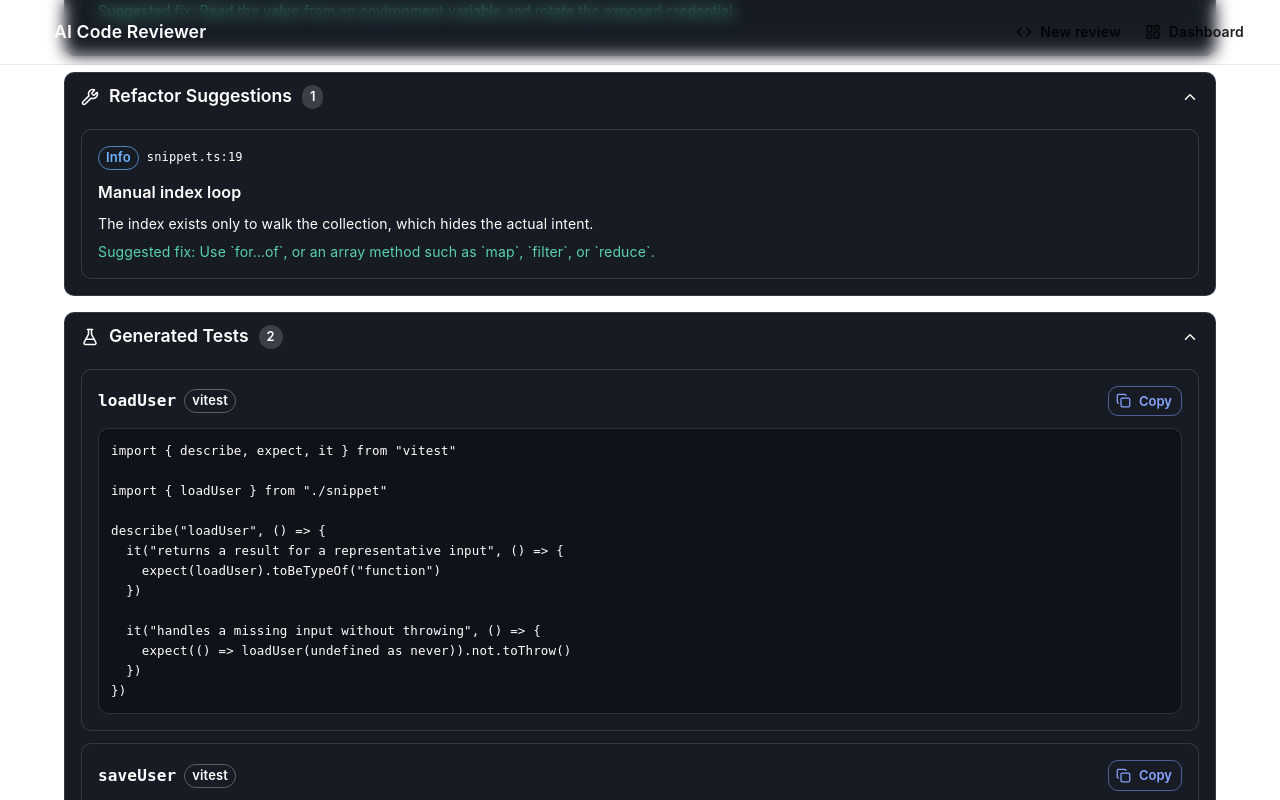
Test: review result view › shows a generated test per reviewed function and copies it (AC5)
(page scrolled)
Click the button with aria-label "Copy the loadUser test": (1145, 401) [1108,386,1182,416]
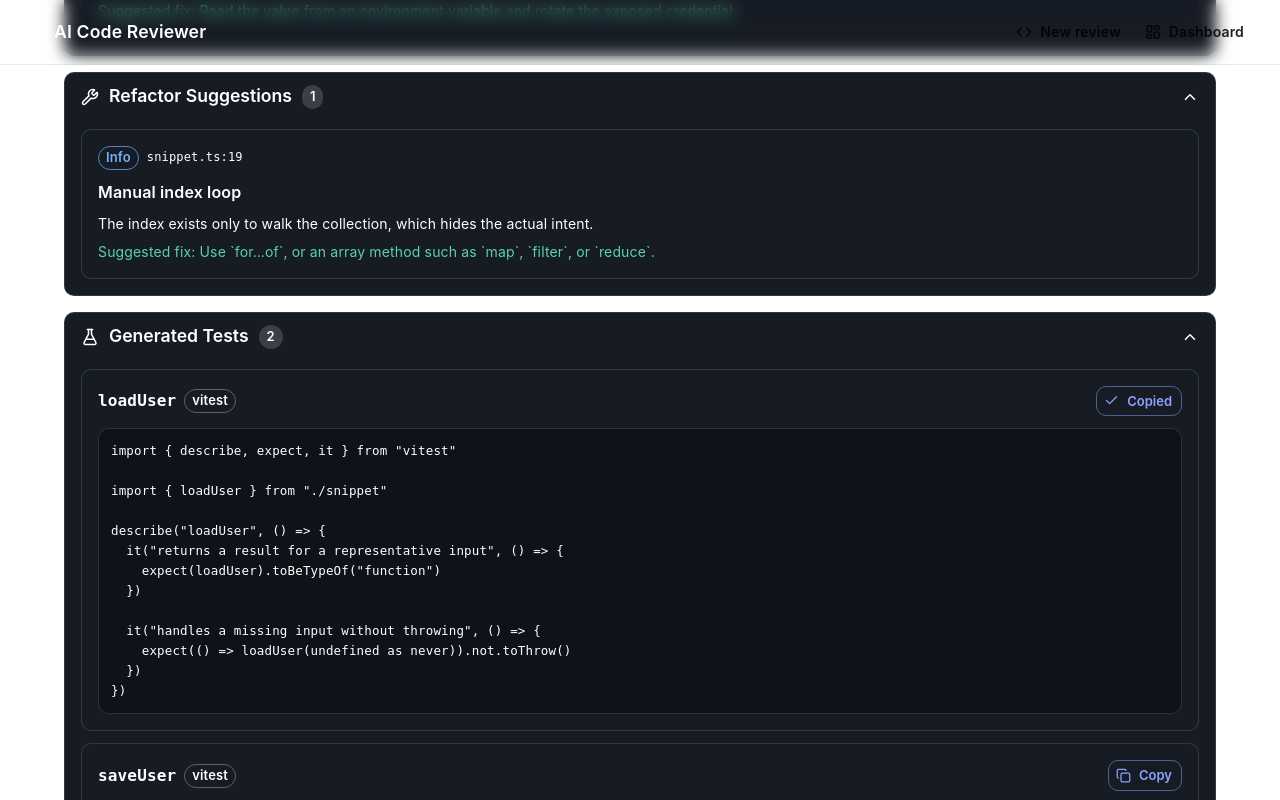
Check: the button with aria-label "Copy the loadUser test" reads "Copied", box [1096,386,1182,416]
